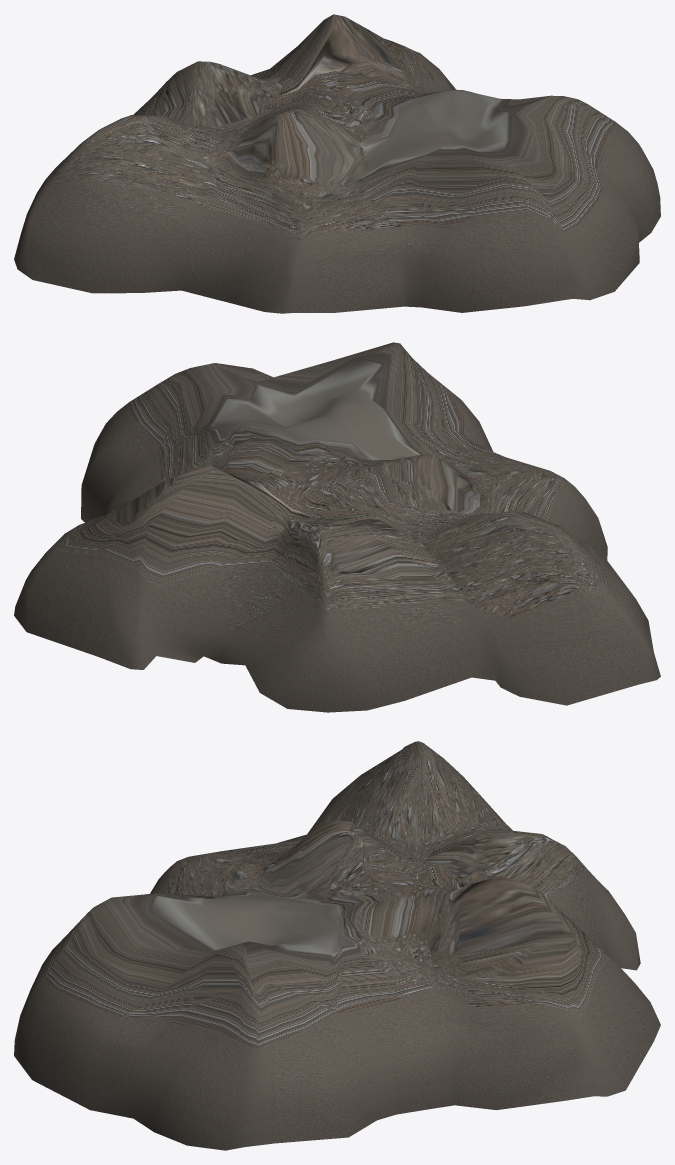
Rendered from cave_wall_bumps_02.dae.
3 views of the same model, one above another, from view 1: azimuth 30°, elevation 25°; view 2: azimuth 150°, elevation 25°; view 3: azimuth 270°, elevation 25° (orthographic). The views are drawn at different scales.
Parts seen in each view (by area): view 1: 02; view 2: 02; view 3: 02.
Part boxes in pixels (x1,y1,x2,y2): 02: [14, 14, 660, 313]; 02: [14, 342, 660, 712]; 02: [14, 741, 660, 1150].
Size of what is drawn, in the model's own units: 3.62 by 0.8603 by 3.11.
